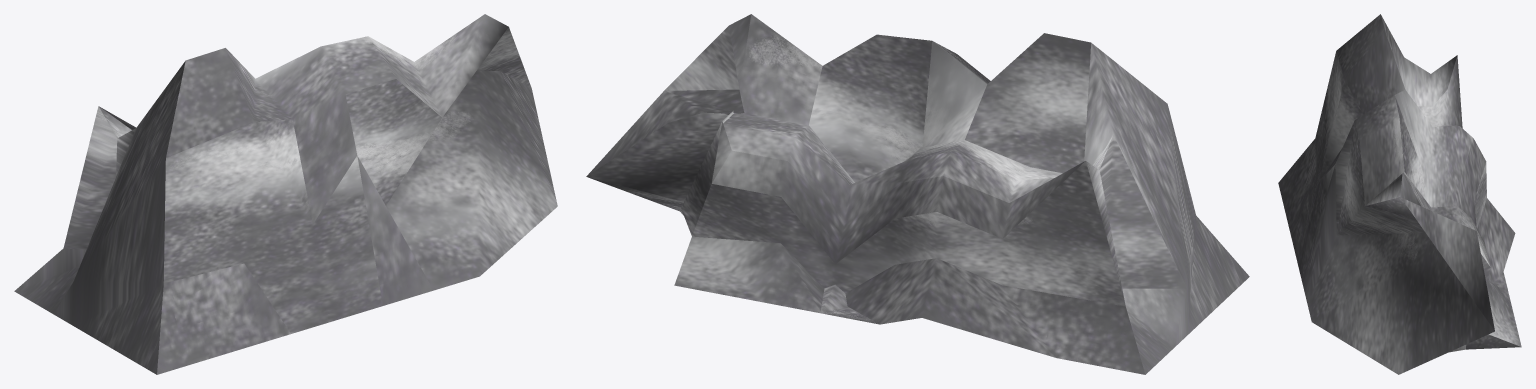
The model's file is Mountain19 - Level 1.FBX.
The picture shows the model from 3 angles, left to right: view 1: azimuth 30°, elevation 25°; view 2: azimuth 150°, elevation 25°; view 3: azimuth 270°, elevation 25°; orthographic projection. The views are drawn at different scales.
Parts seen in each view (by area): view 1: Mountain 19; view 2: Mountain 19; view 3: Mountain 19.
Part boxes in pixels (left/top/right/bottom): Mountain 19: left=14, top=14, right=557, bottom=374; Mountain 19: left=586, top=14, right=1249, bottom=374; Mountain 19: left=1278, top=14, right=1521, bottom=374.
Bounding box in the file's own units: 481 × 217 × 232.
1 material, 1 textured.
